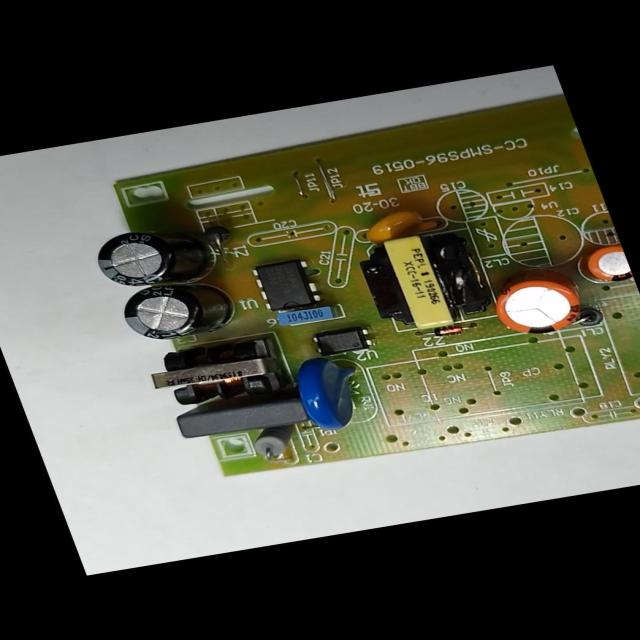Cap1: (486, 272, 597, 342)
Cap2: (580, 243, 634, 287)
Cap3: (111, 272, 247, 346)
Cap4: (88, 220, 224, 294)
MOSFET: (245, 254, 328, 315)
Mov: (284, 347, 384, 436)
Resistor: (247, 424, 308, 461)
Transformer: (351, 228, 500, 338), (138, 332, 288, 411)
